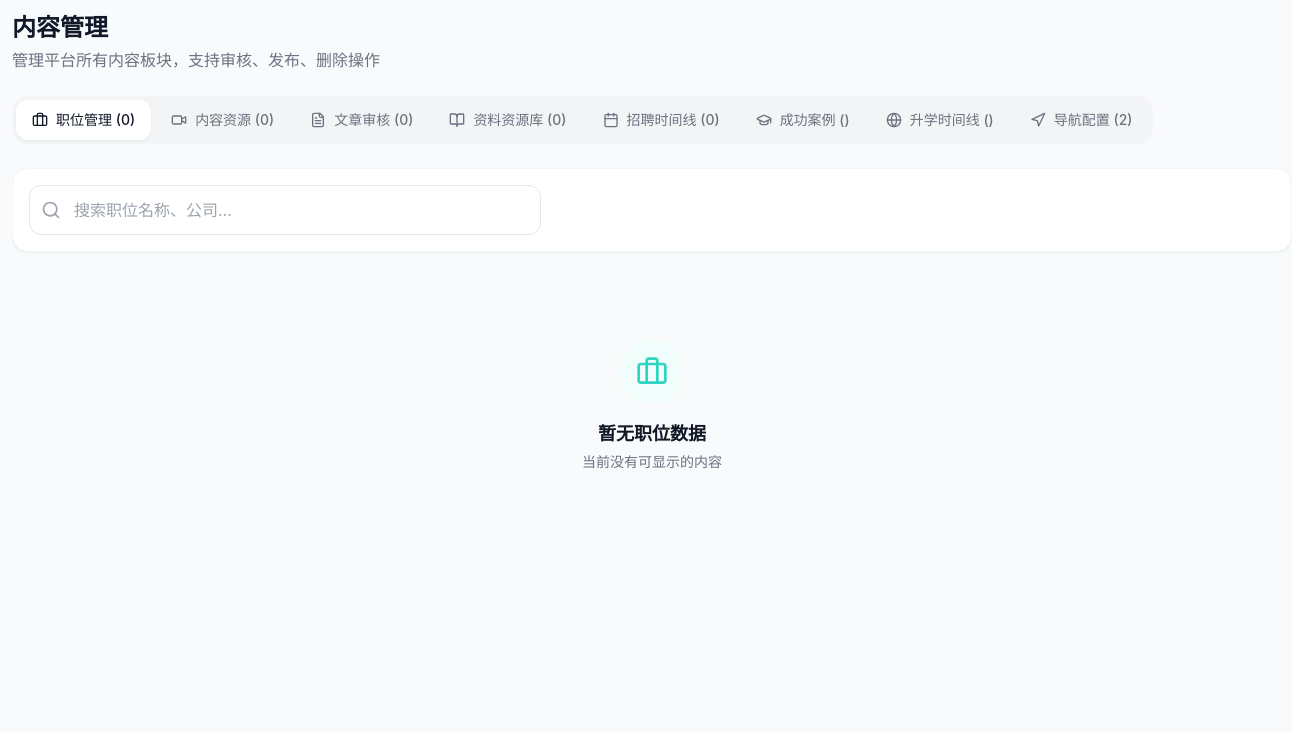
Test: AdminContent - nav config tab › clicking nav config tab shows nav items management
The image size is (1292, 732).
What coordinates should you click on to do the following:
click the button "导航配置 (2)"
I would click on:
 (1081, 120)
Its box is 1014,100 -> 1148,140.
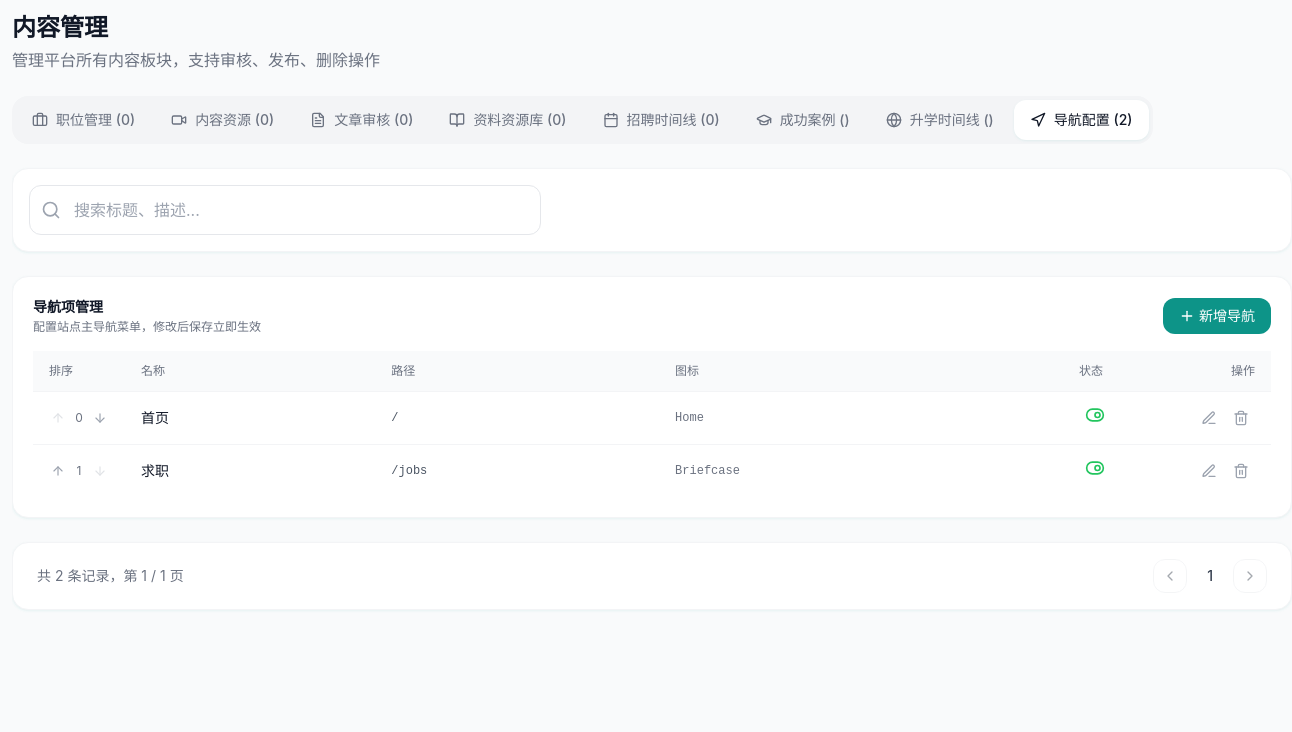
Expected: the heading "导航项管理" is shown, 33,298 -> 103,315
